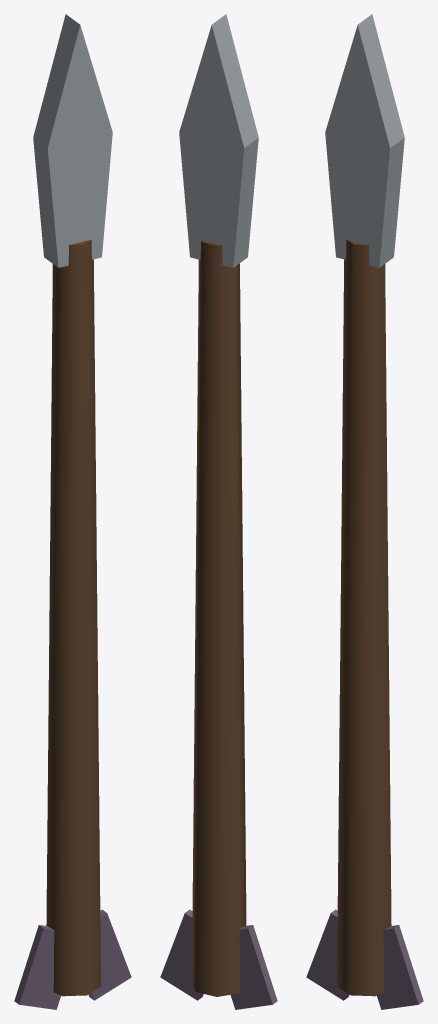
The model's file is javelin.glb.
The picture shows the model from 3 angles, left to right: view 1: azimuth 30°, elevation 25°; view 2: azimuth 150°, elevation 25°; view 3: azimuth 330°, elevation 25°; orthographic projection.
Parts seen in each view (by area): view 1: javelin-shaft, javelin-head, javelin-fletching (×2); view 2: javelin-shaft, javelin-head, javelin-fletching (×2); view 3: javelin-shaft, javelin-head, javelin-fletching (×2).
Part boxes in pixels (left/top/right/bottom): javelin-shaft: left=46, top=239, right=100, bottom=996; javelin-head: left=33, top=14, right=112, bottom=267; javelin-fletching (×2): left=14, top=909, right=131, bottom=1009; javelin-shaft: left=192, top=240, right=246, bottom=996; javelin-head: left=179, top=14, right=258, bottom=267; javelin-fletching (×2): left=160, top=909, right=277, bottom=1009; javelin-shaft: left=337, top=239, right=391, bottom=996; javelin-head: left=325, top=14, right=404, bottom=267; javelin-fletching (×2): left=306, top=909, right=423, bottom=1009.
Bounding box in the file's own units: 0.1556 × 1.3 × 0.0646.
